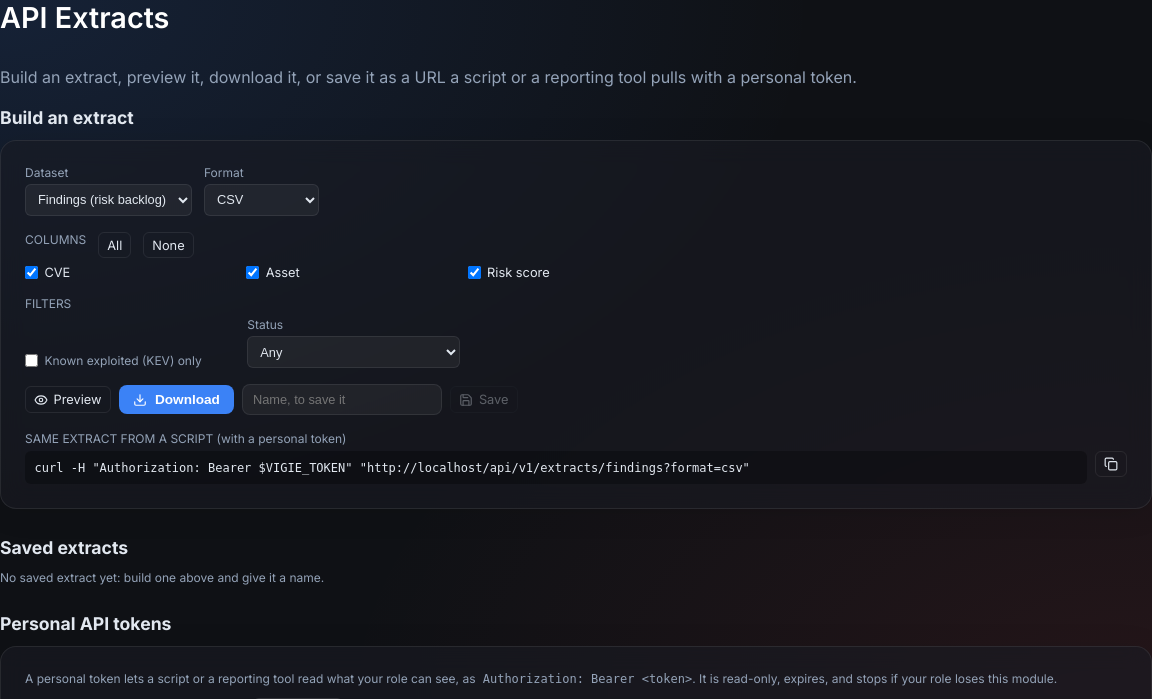
Test: Extracts › switching dataset resets columns and filters
Select "Assets" in the dropdown labelled "Dataset" at (108, 200), box [25,184,192,216]
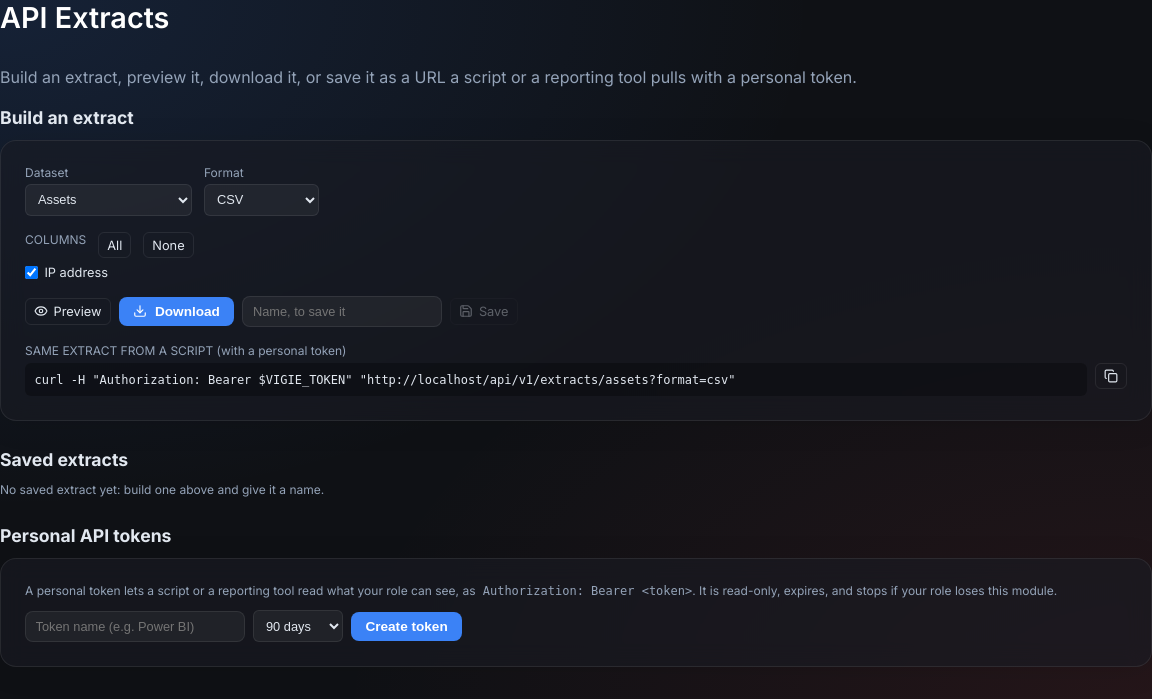
Expected: the checkbox labelled "IP address" is checked, [25,266,38,279]
Expected: the label labelled "Known exploited (KEV) only" is gone
